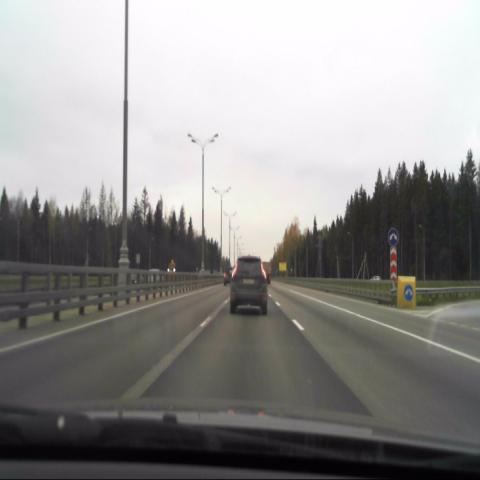4_2_3: (403, 283, 414, 302), (388, 227, 399, 245)
